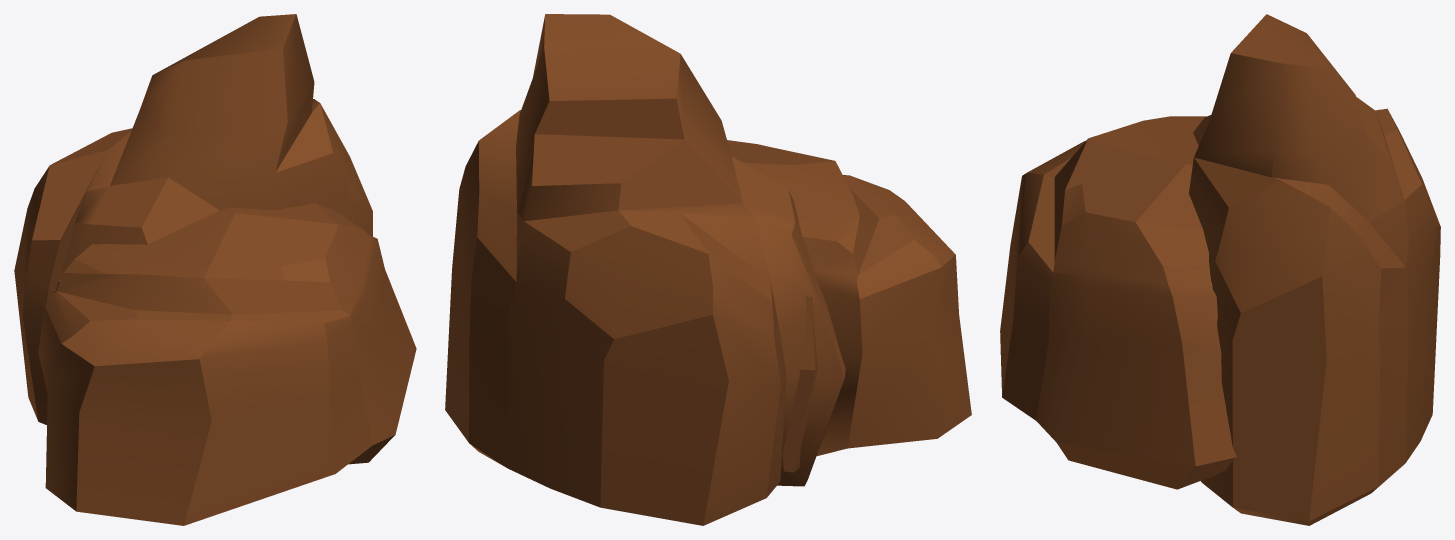
The model's file is Rock Large 2.glb.
3 views of the same model, side by side, from view 1: azimuth 30°, elevation 25°; view 2: azimuth 150°, elevation 25°; view 3: azimuth 270°, elevation 25° (orthographic). The views are drawn at different scales.
Parts seen in each view (by area): view 1: Rock_Large_2; view 2: Rock_Large_2; view 3: Rock_Large_2.
Part boxes in pixels (x1,y1,x2,y2): Rock_Large_2: (14, 14, 416, 525); Rock_Large_2: (445, 14, 971, 525); Rock_Large_2: (1000, 14, 1440, 525).
Bounding box in the file's own units: 8.54 × 8.21 × 7.62.
1 material, 1 textured.
